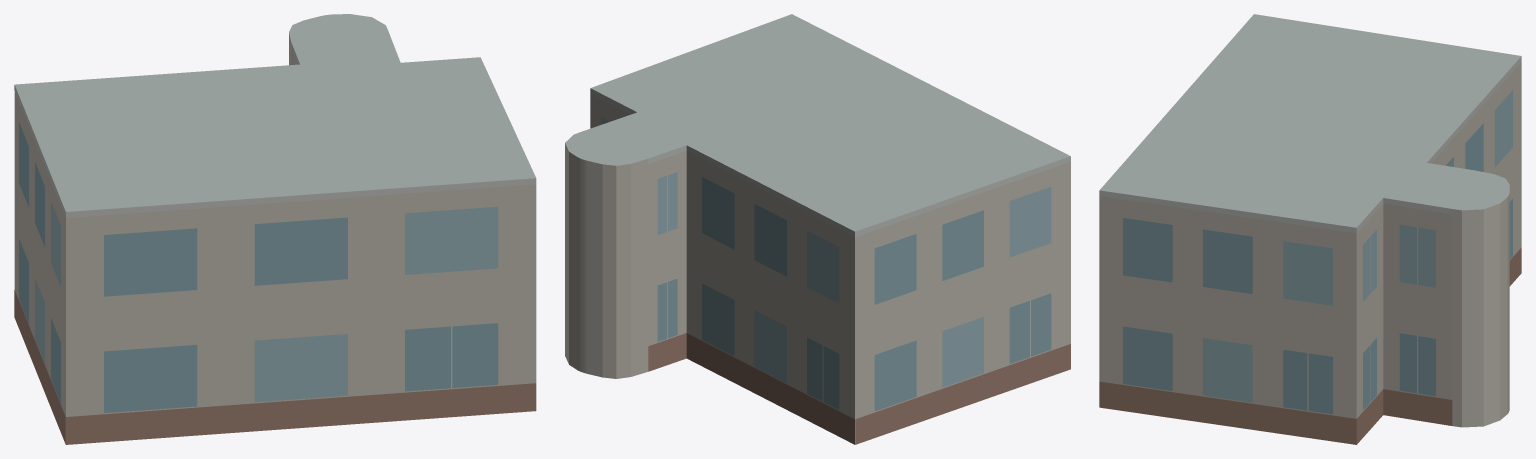
File: survey-upis-32964403.glb
3 renders of one model, left to right at view 1: azimuth 30°, elevation 25°; view 2: azimuth 150°, elevation 25°; view 3: azimuth 270°, elevation 25°, orthographic. The views are drawn at different scales.
Parts seen in each view (by area): view 1: survey-upis-32964403.tmp; view 2: survey-upis-32964403.tmp; view 3: survey-upis-32964403.tmp.
Boxes of the visible parts, x1,y1,x2,y2 form: survey-upis-32964403.tmp: (14,14,536,444); survey-upis-32964403.tmp: (565,14,1070,444); survey-upis-32964403.tmp: (1099,14,1521,444).
Size of the model in its own units: 19.9 by 9.42 by 16.61.
